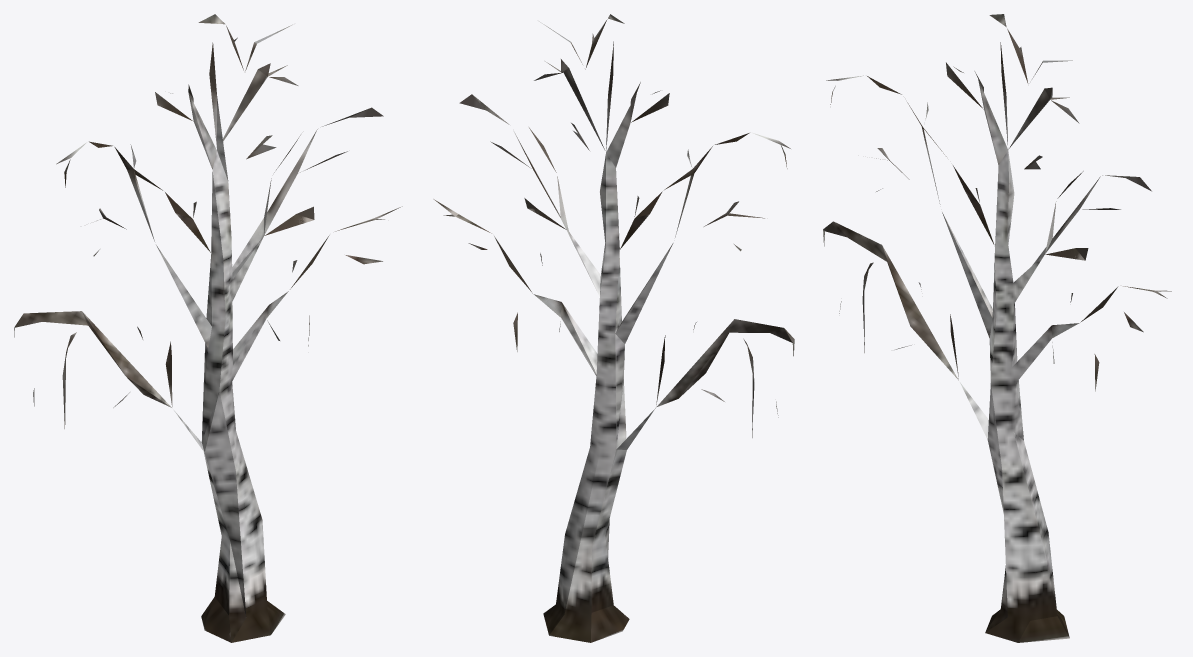
The model's file is tree_birch_winter.lod3.glb.
3 views of the same model, side by side, from view 1: azimuth 30°, elevation 25°; view 2: azimuth 150°, elevation 25°; view 3: azimuth 330°, elevation 25° (orthographic).
Visible parts, largest first — view 1: tree_birch_winter.lod3_uv; view 2: tree_birch_winter.lod3_uv; view 3: tree_birch_winter.lod3_uv.
Part boxes in pixels (<box>): tree_birch_winter.lod3_uv: <box>14,14,402,642</box>; tree_birch_winter.lod3_uv: <box>433,14,794,642</box>; tree_birch_winter.lod3_uv: <box>823,14,1171,642</box>.
Bounding box in the file's own units: 1.19 × 1.87 × 0.2224.
1 material, 1 textured.
